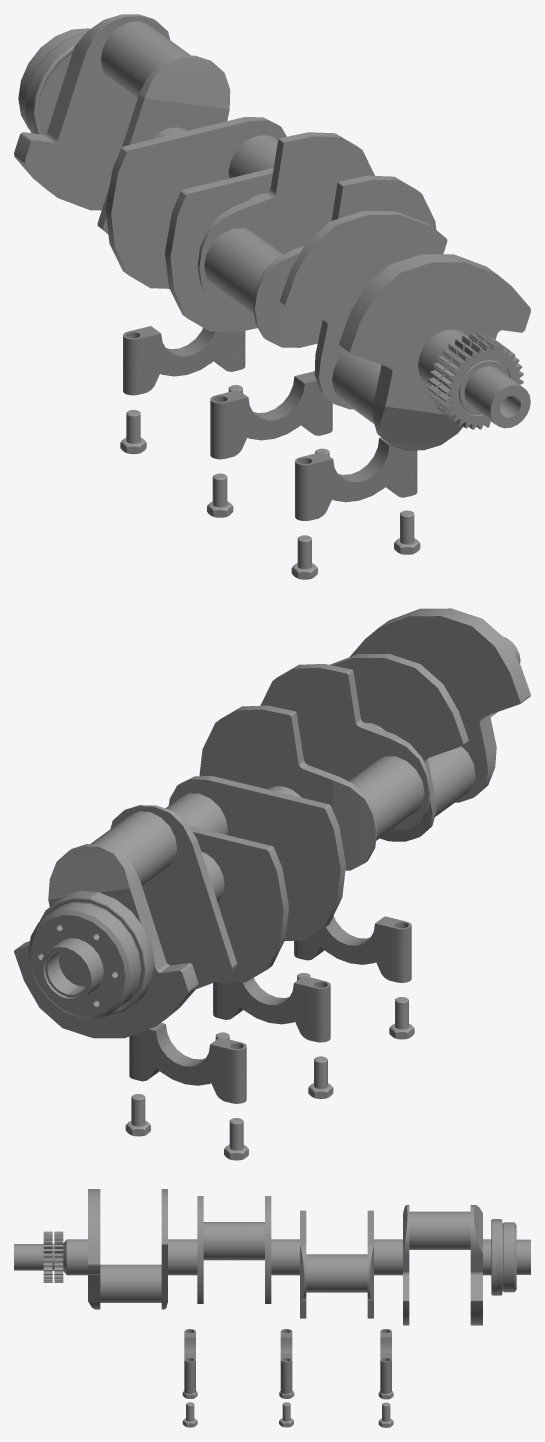
Rendered from crankshaft.glb.
3 views of the same model, one above another, from view 1: azimuth 30°, elevation 25°; view 2: azimuth 150°, elevation 25°; view 3: azimuth 270°, elevation 25° (orthographic). The views are drawn at different scales.
Parts seen in each view (by area): view 1: v8_coyote_walKorbowy(0), pokrywa_lozyska(2), pokrywa_lozyska(1), pokrywa_lozyska(0), Obj_srubaSilnik1, srubaSilnik_0, Obj_srubaSilnik_0, Obj_srubaSilnik1_2; view 2: v8_coyote_walKorbowy(0), pokrywa_lozyska(0), pokrywa_lozyska(2), pokrywa_lozyska(1), Obj_srubaSilnik1_3, Obj_srubaSilnik1_2, Obj_srubaSilnik1, srubaSilnik_0; view 3: v8_coyote_walKorbowy(0), pokrywa_lozyska(2), pokrywa_lozyska(0), pokrywa_lozyska(1).
Boxes of the visible parts, left/top/right/bottom form: v8_coyote_walKorbowy(0): left=14, top=14, right=530, bottom=450; pokrywa_lozyska(2): left=210, top=371, right=332, bottom=459; pokrywa_lozyska(1): left=295, top=437, right=417, bottom=520; pokrywa_lozyska(0): left=123, top=326, right=245, bottom=395; Obj_srubaSilnik1: left=207, top=473, right=233, bottom=517; srubaSilnik_0: left=291, top=535, right=317, bottom=579; Obj_srubaSilnik_0: left=394, top=510, right=420, bottom=554; Obj_srubaSilnik1_2: left=120, top=410, right=146, bottom=454; v8_coyote_walKorbowy(0): left=14, top=608, right=530, bottom=1038; pokrywa_lozyska(0): left=129, top=1023, right=246, bottom=1103; pokrywa_lozyska(2): left=213, top=976, right=330, bottom=1042; pokrywa_lozyska(1): left=294, top=916, right=411, bottom=982; Obj_srubaSilnik1_3: left=125, top=1094, right=150, bottom=1136; Obj_srubaSilnik1_2: left=224, top=1118, right=248, bottom=1160; Obj_srubaSilnik1: left=308, top=1056, right=333, bottom=1098; srubaSilnik_0: left=389, top=997, right=414, bottom=1039; v8_coyote_walKorbowy(0): left=14, top=1189, right=530, bottom=1325; pokrywa_lozyska(2): left=280, top=1329, right=292, bottom=1393; pokrywa_lozyska(0): left=380, top=1329, right=391, bottom=1393; pokrywa_lozyska(1): left=184, top=1329, right=195, bottom=1393.
Size of the model in its own units: 0.00271 by 0.00505 by 0.0111.
2 materials, 1 textured.
